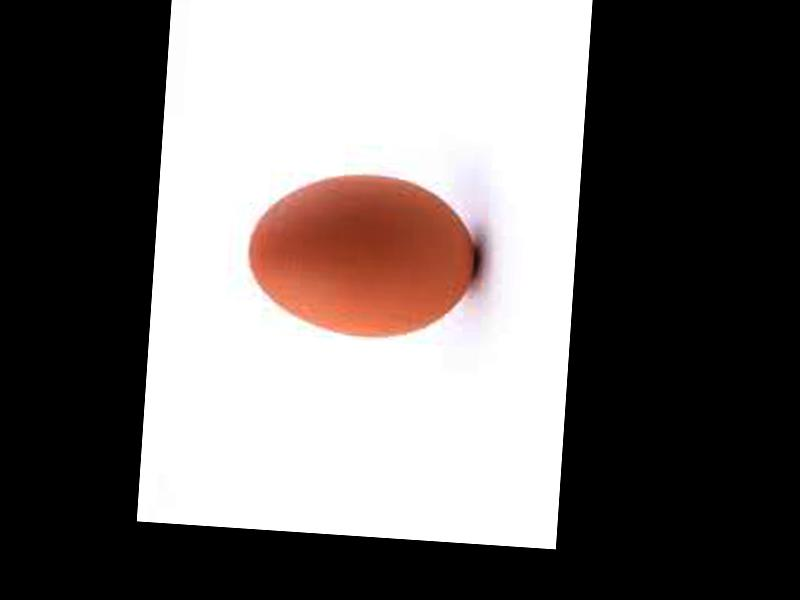Eggs: (242, 165, 479, 341)
